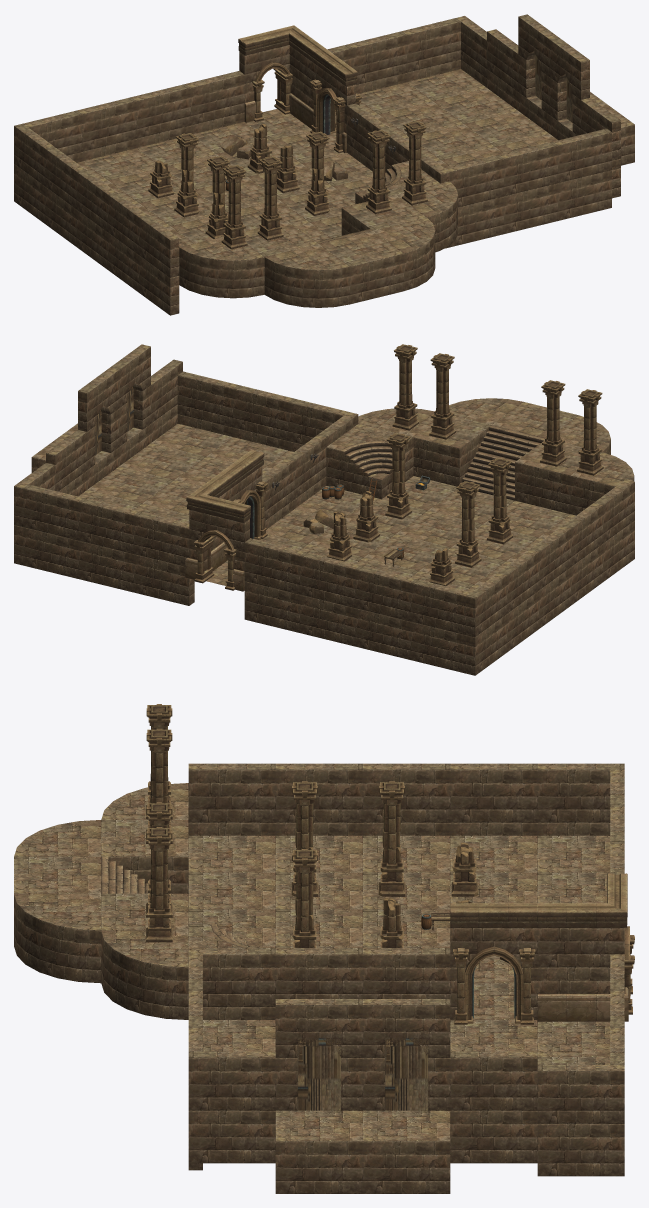
File: level1.dae
3 views of the same model, one above another, from view 1: azimuth 30°, elevation 25°; view 2: azimuth 150°, elevation 25°; view 3: azimuth 270°, elevation 25° (orthographic). The views are drawn at different scales.
Visible parts, largest first — view 1: Wall_01_mesh (×20), Floor_01_mesh (×25), Base_Rounded_01_Mesh (×4), Base_01_mesh (×5), Wall_Arch_Corner_Preset_03_mesh, Column_01_mesh (×4), Wall_Arch_02_mesh (×2), Damaged_Column_01_mesh (×3), Wall_Arch_Preset_04_mesh, Damaged_Column_02_mesh (×2), Stair_Pool_06_Mesh, Damaged_Column_03_mesh (+1 smaller); view 2: Wall_01_mesh (×21), Floor_01_mesh (×20), Base_01_mesh (×5), Column_01_mesh (×4), Wall_Arch_Corner_Preset_03_mesh, Wall_Arch_02_mesh (×2), Base_Rounded_01_Mesh (×4), Damaged_Column_01_mesh (×3), Stair_Pool_06_Mesh, Stair_01_Mesh, Wall_Arch_Preset_04_mesh, Damaged_Column_02_mesh (×2) (+2 smaller); view 3: Wall_01_mesh (×11), Floor_01_mesh (×18), Base_01_mesh (×5), Base_Rounded_01_Mesh (×4), Wall_Arch_02_mesh (×2), Wall_Arch_Corner_Preset_03_mesh, Wall_Arch_Preset_04_mesh, Plane_mesh (×2), Damaged_Column_01_mesh (×3), Column_01_mesh (×4), Stair_01_Mesh, Damaged_Column_03_mesh (+2 smaller).
Boxes of the visible parts, bbox=[...] form: Wall_01_mesh (×20): bbox=[14, 16, 620, 315]; Floor_01_mesh (×25): bbox=[82, 69, 557, 243]; Base_Rounded_01_Mesh (×4): bbox=[179, 181, 457, 307]; Base_01_mesh (×5): bbox=[244, 92, 634, 304]; Wall_Arch_Corner_Preset_03_mesh: bbox=[238, 25, 325, 128]; Column_01_mesh (×4): bbox=[221, 121, 427, 249]; Wall_Arch_02_mesh (×2): bbox=[518, 14, 589, 135]; Damaged_Column_01_mesh (×3): bbox=[174, 131, 329, 238]; Wall_Arch_Preset_04_mesh: bbox=[309, 49, 361, 153]; Damaged_Column_02_mesh (×2): bbox=[247, 124, 299, 193]; Stair_Pool_06_Mesh: bbox=[355, 161, 440, 204]; Damaged_Column_03_mesh: bbox=[148, 160, 174, 198]; Wall_01_mesh (×21): bbox=[14, 359, 634, 675]; Floor_01_mesh (×20): bbox=[78, 423, 569, 584]; Base_01_mesh (×5): bbox=[31, 402, 601, 513]; Column_01_mesh (×4): bbox=[392, 344, 603, 475]; Wall_Arch_Corner_Preset_03_mesh: bbox=[185, 473, 250, 591]; Wall_Arch_02_mesh (×2): bbox=[78, 344, 150, 470]; Base_Rounded_01_Mesh (×4): bbox=[358, 398, 634, 515]; Damaged_Column_01_mesh (×3): bbox=[385, 433, 513, 567]; Stair_Pool_06_Mesh: bbox=[326, 424, 413, 499]; Stair_01_Mesh: bbox=[461, 425, 544, 500]; Wall_Arch_Preset_04_mesh: bbox=[220, 449, 268, 539]; Damaged_Column_02_mesh (×2): bbox=[326, 491, 379, 561]; Wall_01_mesh (×11): bbox=[188, 763, 624, 1176]; Floor_01_mesh (×18): bbox=[188, 835, 610, 1056]; Base_01_mesh (×5): bbox=[14, 820, 450, 1193]; Base_Rounded_01_Mesh (×4): bbox=[14, 783, 188, 1019]; Wall_Arch_02_mesh (×2): bbox=[275, 999, 450, 1110]; Wall_Arch_Corner_Preset_03_mesh: bbox=[537, 873, 634, 1021]; Wall_Arch_Preset_04_mesh: bbox=[450, 903, 537, 1024]; Plane_mesh (×2): bbox=[297, 1037, 428, 1110]; Damaged_Column_01_mesh (×3): bbox=[291, 781, 405, 947]; Column_01_mesh (×4): bbox=[146, 704, 172, 942]; Stair_01_Mesh: bbox=[101, 856, 149, 893]; Damaged_Column_03_mesh: bbox=[451, 842, 477, 896].
Size of the model in its own units: 55 by 14.97 by 42.7.
2 materials, 2 textured.
